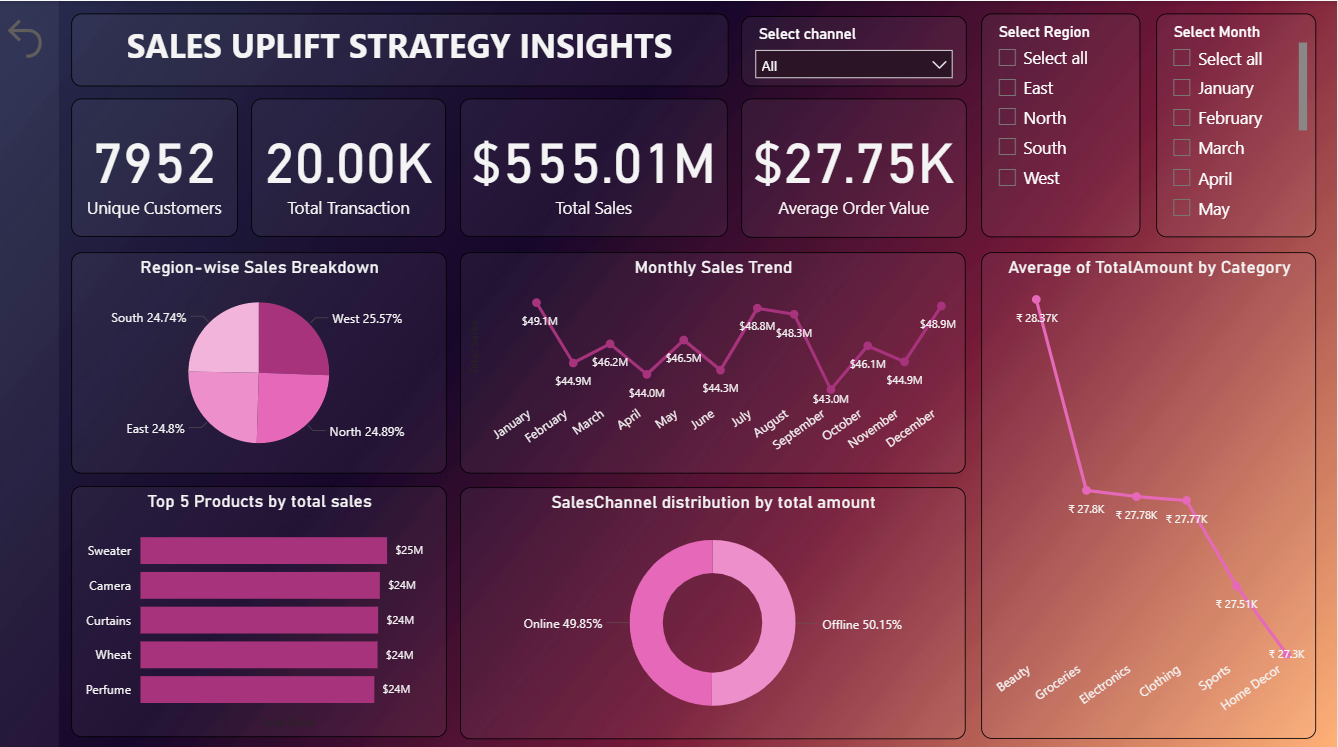

What the dashboard file says about the page in this screenshot:
{"tool":"powerbi","page":{"name":"Page 1","canvas":[1290,720],"ordinal":0},"visuals":[{"type":"textbox","box":[0,0,56.7,720.2],"z":0},{"type":"textbox","box":[68.8,12.1,634.1,70.1],"z":1000},{"type":"card","fields":{"Values":["Count(Sales_Uplift_Strategy.CustomerID)"]},"box":[68.8,94.1,160.5,133.9],"z":2000},{"type":"card","fields":{"Values":["Count(Sales_Uplift_Strategy.TransactionID)"]},"box":[242.5,94.1,188.2,133.9],"z":3000},{"type":"card","fields":{"Values":["Measures Table.Average Order Value"]},"box":[715.1,94.2,217.4,134.1],"z":4000},{"type":"card","fields":{"Values":["Measures Table.Total Sales"]},"box":[444,94.1,258.2,133.9],"z":5000},{"type":"slicer","fields":{"Values":["Sales_Uplift_Strategy.Region"]},"box":[947,12.1,153.4,216.2],"z":6000},{"type":"slicer","fields":{"Values":["Sales_Uplift_Strategy.Date.Variation.Date Hierarchy.Month"]},"box":[1116.1,12.1,154.6,216.2],"z":7000},{"type":"slicer","fields":{"Values":["Sales_Uplift_Strategy.SalesChannel"]},"box":[715.1,14.5,217.4,67.6],"z":8000},{"type":"pieChart","title":"Region-wise Sales Breakdown","fields":{"Category":["RetailData.Region"],"Y":["Measures Table.Total Sales"]},"box":[68.8,242.8,362.4,213.8],"z":9000},{"type":"lineChart","title":"Monthly Sales Trend","fields":{"Category":["RetailData.Date.Variation.Date Hierarchy.Month"],"Y":["Measures Table.Total Sales"]},"box":[444.5,242.8,488,213.8],"z":10000},{"type":"barChart","title":"Top 5 Products by total sales","fields":{"Y":["Measures Table.Total Sales"],"Category":["RetailData.ProductName"]},"box":[68.8,468.7,362.4,242.8],"z":11000},{"type":"donutChart","title":"SalesChannel distribution by total amount","fields":{"Category":["RetailData.SalesChannel"],"Y":["Sum(RetailData.TotalAmount)"]},"box":[444,469,488,243],"z":12000},{"type":"lineChart","fields":{"Category":["RetailData.Category"],"Y":["Avg(RetailData.TotalAmount)"]},"box":[947.1,242.5,323.3,469.3],"z":13000},{"type":"actionButton","box":[0,12.1,56.7,48.3],"z":13001}]}

Visuals, with their boxes in screenshot pixels (x1, y1, x2, y2), scaled from the page's 1290x720 canvas onto the 1338x747 screenshot:
textbox: region(0, 0, 59, 746)
textbox: region(71, 13, 729, 85)
card - Count(Sales_Uplift_Strategy.CustomerID): region(71, 98, 238, 237)
card - Count(Sales_Uplift_Strategy.TransactionID): region(252, 98, 447, 237)
card - Measures Table.Average Order Value: region(742, 98, 967, 237)
card - Measures Table.Total Sales: region(461, 98, 728, 237)
slicer - Sales_Uplift_Strategy.Region: region(982, 13, 1141, 237)
slicer - Sales_Uplift_Strategy.Date.Variation.Date Hierarchy.Month: region(1158, 13, 1318, 237)
slicer - Sales_Uplift_Strategy.SalesChannel: region(742, 15, 967, 85)
"Region-wise Sales Breakdown" pieChart: region(71, 252, 447, 474)
"Monthly Sales Trend" lineChart: region(461, 252, 967, 474)
"Top 5 Products by total sales" barChart: region(71, 486, 447, 738)
"SalesChannel distribution by total amount" donutChart: region(461, 487, 967, 739)
lineChart - RetailData.Category x Avg(RetailData.TotalAmount): region(982, 252, 1318, 738)
actionButton: region(0, 13, 59, 63)
